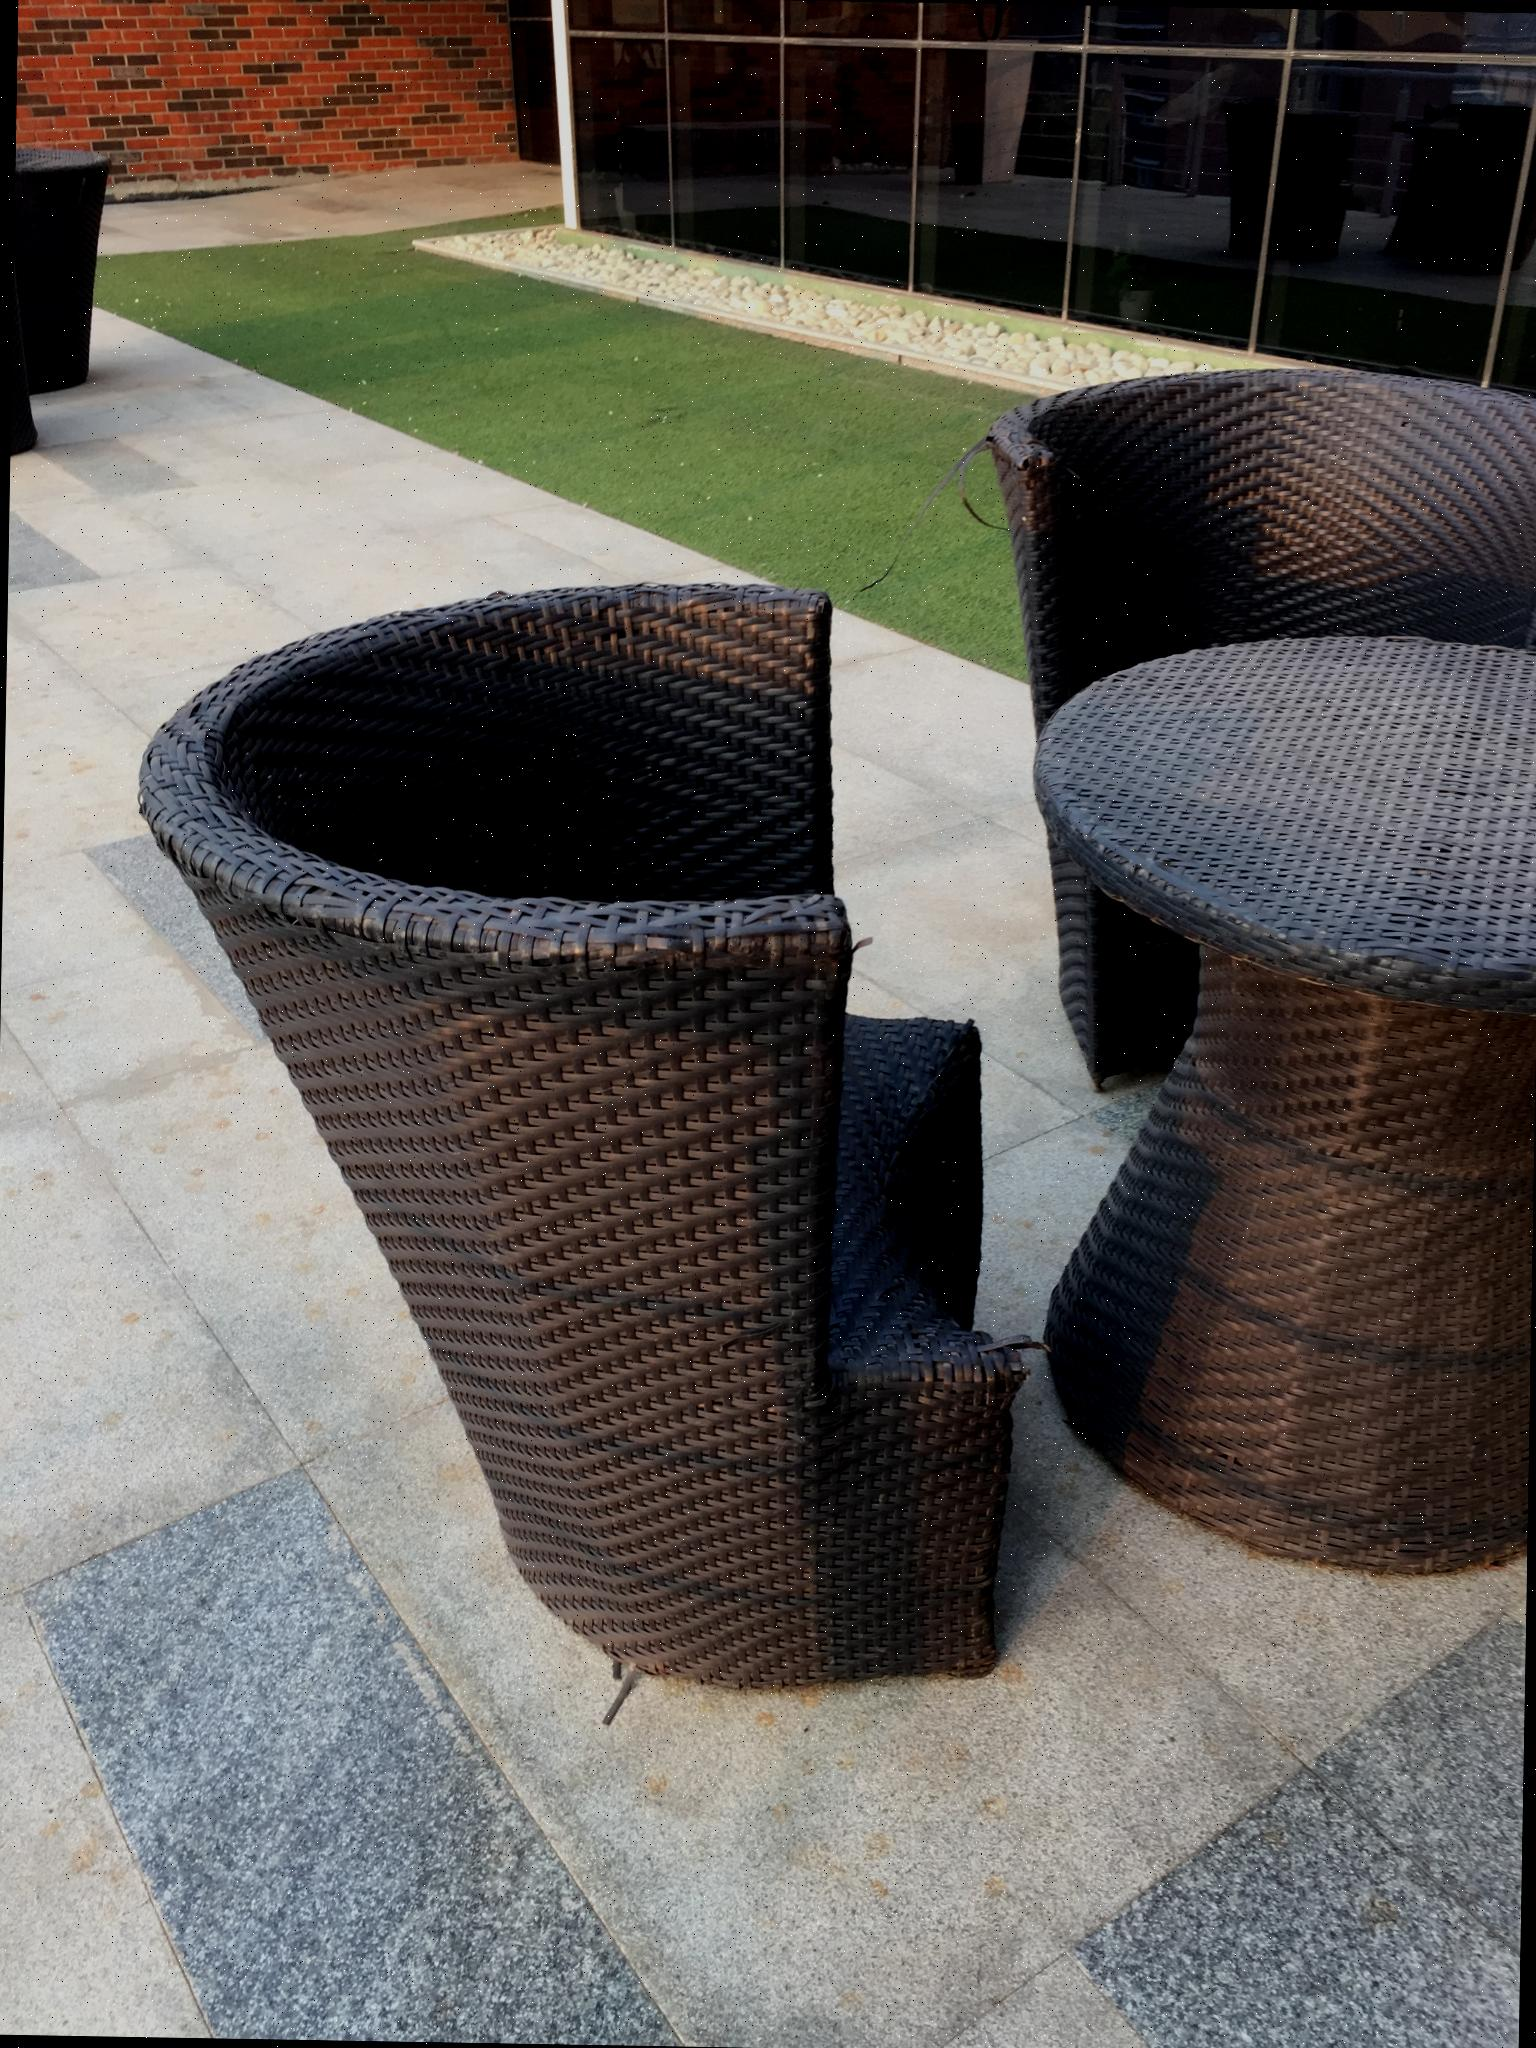chair: (121, 568, 1052, 1724), (975, 360, 1536, 1098), (10, 132, 168, 479)
